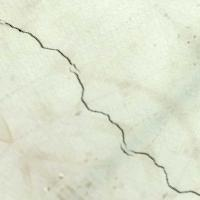crack: (0, 18, 199, 199)
